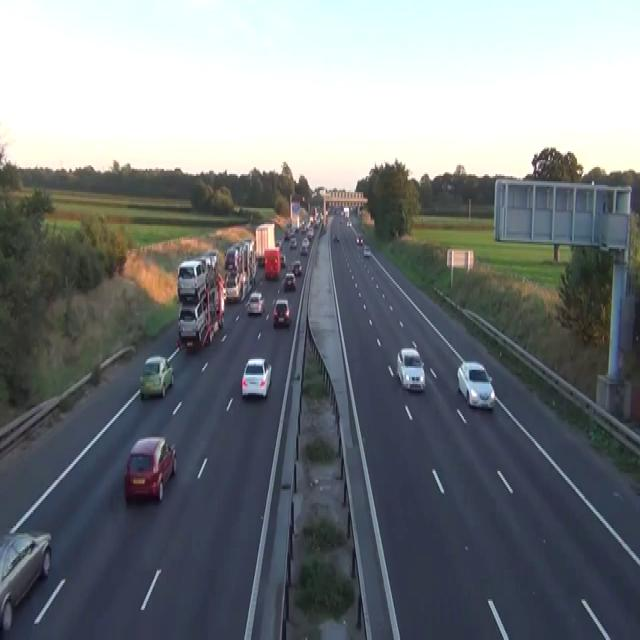Car: (0, 530, 52, 629), (124, 434, 177, 503), (457, 359, 495, 409), (139, 356, 173, 398), (177, 300, 206, 345), (396, 347, 425, 391), (177, 258, 207, 300), (241, 358, 271, 398), (224, 242, 241, 270), (273, 299, 290, 325), (247, 290, 264, 314), (200, 249, 218, 270), (284, 272, 295, 290), (291, 260, 302, 276), (300, 238, 309, 254), (289, 236, 297, 249), (257, 256, 265, 267), (363, 244, 370, 256), (275, 240, 282, 252), (355, 235, 363, 245), (306, 228, 314, 238), (280, 254, 286, 267), (222, 286, 227, 300), (446, 182, 454, 190), (332, 233, 339, 242), (233, 204, 240, 213), (284, 229, 289, 240), (321, 224, 326, 233), (275, 240, 281, 247), (346, 220, 351, 226), (339, 217, 343, 224), (325, 210, 328, 217)
Truck: (176, 251, 225, 350), (223, 238, 257, 302), (255, 222, 275, 265), (264, 247, 280, 279), (343, 206, 349, 217)
